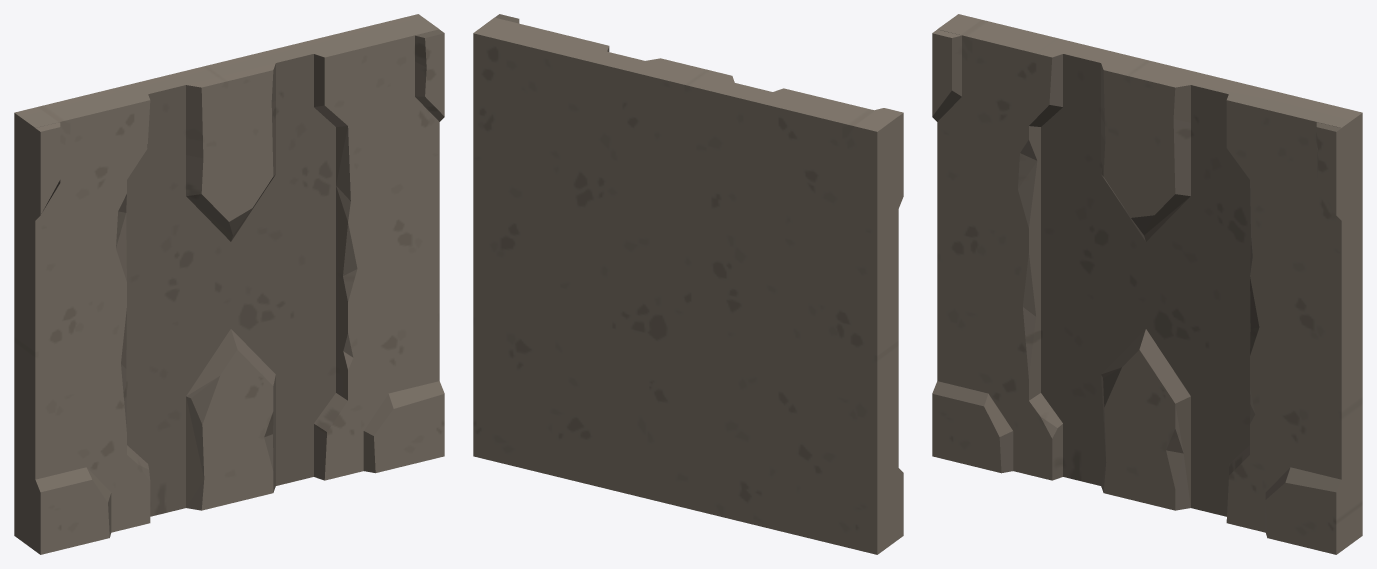
The model's file is forge_wall_b.gltf.
The picture shows the model from 3 angles, left to right: view 1: azimuth 30°, elevation 25°; view 2: azimuth 150°, elevation 25°; view 3: azimuth 330°, elevation 25°; orthographic projection.
Parts seen in each view (by area): view 1: forge_wall_b; view 2: forge_wall_b; view 3: forge_wall_b.
Part boxes in pixels (left/top/right/bottom): forge_wall_b: left=14, top=14, right=444, bottom=554; forge_wall_b: left=473, top=14, right=903, bottom=554; forge_wall_b: left=932, top=14, right=1362, bottom=554.
Bounding box in the file's own units: 5 × 5 × 0.564.
1 material, 1 textured.
